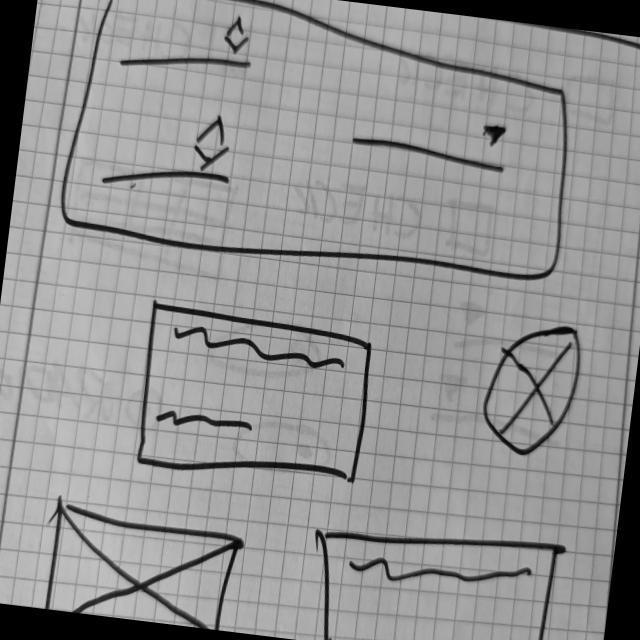container: (55, 1, 589, 296)
number-input: (98, 99, 241, 203), (118, 1, 259, 84)
select: (129, 299, 382, 497), (347, 97, 514, 176)
